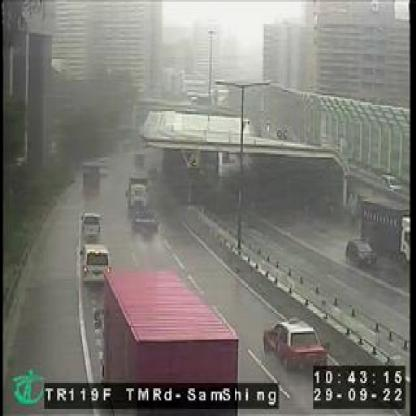Bus: (76, 159, 102, 203)
Car: (260, 317, 330, 373), (79, 239, 112, 284), (342, 236, 377, 270), (80, 211, 99, 236)
Truck: (87, 267, 238, 414), (358, 190, 414, 263), (124, 175, 158, 232)
